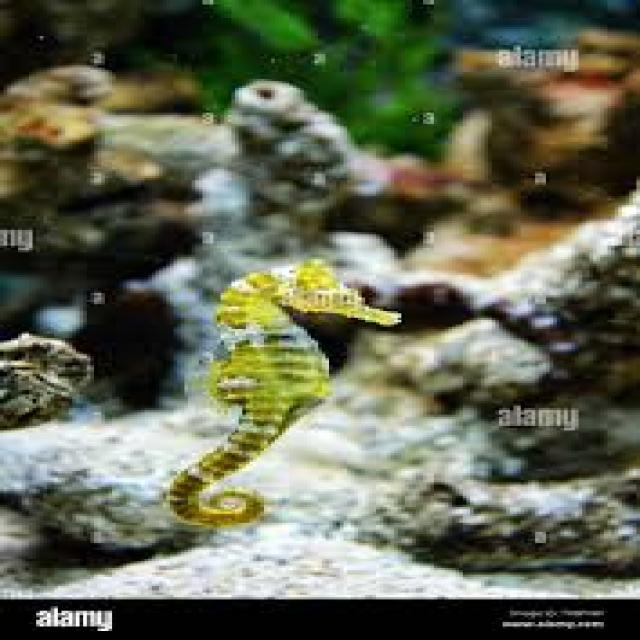SeaHorse: (166, 260, 402, 530)
